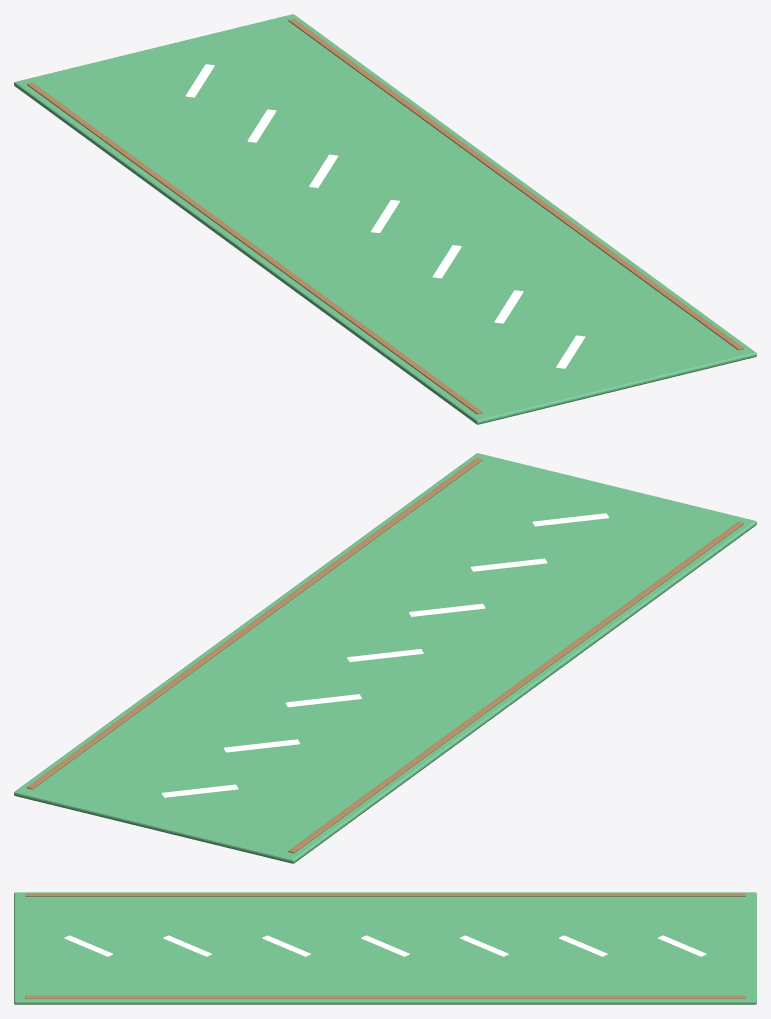
File: decor_chapel_runner.glb
The picture shows the model from 3 angles, top to bottom: view 1: azimuth 30°, elevation 25°; view 2: azimuth 150°, elevation 25°; view 3: azimuth 270°, elevation 25°; orthographic projection. The views are drawn at different scales.
Visible parts, largest first — view 1: DECOR_CHAPEL_RUNNER__Fabric, DECOR_CHAPEL_RUNNER__Edge_R, DECOR_CHAPEL_RUNNER__Edge_L; view 2: DECOR_CHAPEL_RUNNER__Fabric, DECOR_CHAPEL_RUNNER__Edge_R, DECOR_CHAPEL_RUNNER__Edge_L; view 3: DECOR_CHAPEL_RUNNER__Fabric, DECOR_CHAPEL_RUNNER__Edge_L, DECOR_CHAPEL_RUNNER__Edge_R, DECOR_CHAPEL_RUNNER__Geometry_00, DECOR_CHAPEL_RUNNER__Geometry_13, DECOR_CHAPEL_RUNNER__Geometry_18, DECOR_CHAPEL_RUNNER__Geometry_27, DECOR_CHAPEL_RUNNER__Geometry_04, DECOR_CHAPEL_RUNNER__Geometry_09, DECOR_CHAPEL_RUNNER__Geometry_22.
Part boxes in pixels (x1,y1,x2,y2): DECOR_CHAPEL_RUNNER__Fabric: (14,14,756,424); DECOR_CHAPEL_RUNNER__Edge_R: (288,18,743,350); DECOR_CHAPEL_RUNNER__Edge_L: (27,82,482,414); DECOR_CHAPEL_RUNNER__Fabric: (14,453,756,863); DECOR_CHAPEL_RUNNER__Edge_R: (27,457,482,789); DECOR_CHAPEL_RUNNER__Edge_L: (288,521,743,853); DECOR_CHAPEL_RUNNER__Fabric: (14,892,756,1004); DECOR_CHAPEL_RUNNER__Edge_L: (25,893,745,896); DECOR_CHAPEL_RUNNER__Edge_R: (25,995,745,998); DECOR_CHAPEL_RUNNER__Geometry_00: (64,935,112,956); DECOR_CHAPEL_RUNNER__Geometry_13: (361,935,409,956); DECOR_CHAPEL_RUNNER__Geometry_18: (460,935,508,956); DECOR_CHAPEL_RUNNER__Geometry_27: (658,935,706,956); DECOR_CHAPEL_RUNNER__Geometry_04: (163,935,211,956); DECOR_CHAPEL_RUNNER__Geometry_09: (262,935,310,956); DECOR_CHAPEL_RUNNER__Geometry_22: (559,935,607,956).
Bounding box in the file's own units: 1.18 × 0.024 × 3.38.
